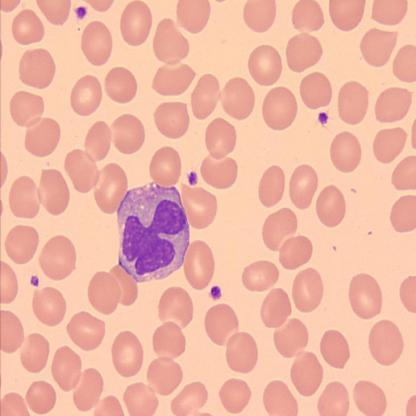Monocyte: (115, 180, 190, 285)
